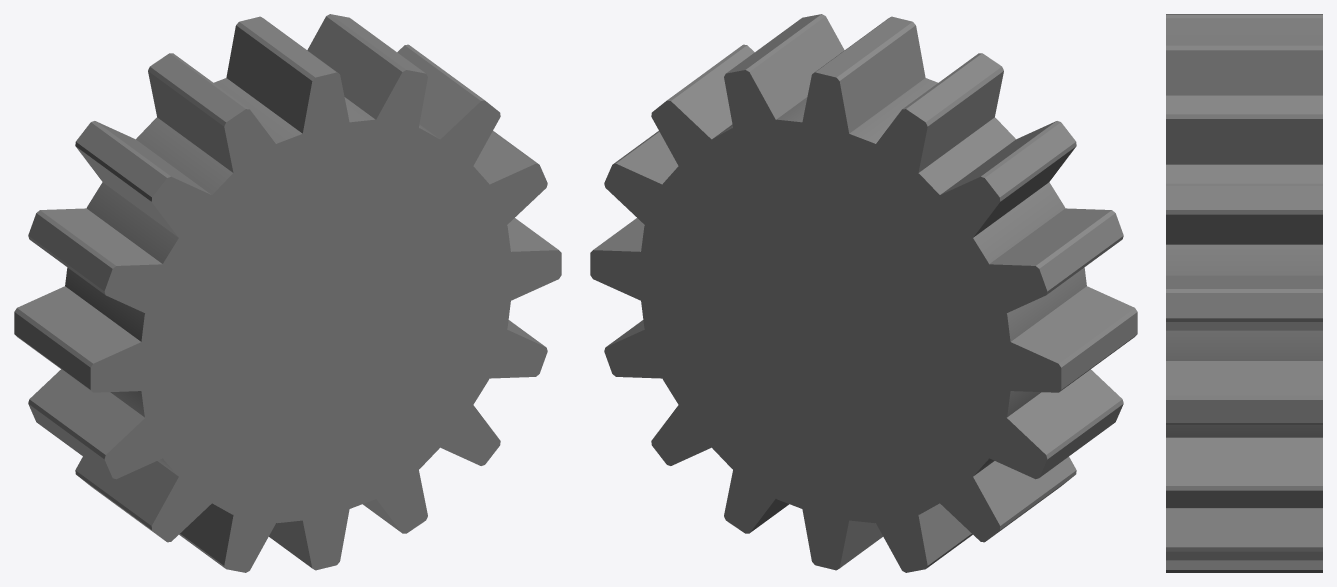
Rendered from gear16_01.fbx.
3 views of the same model, side by side, from view 1: azimuth 30°, elevation 25°; view 2: azimuth 150°, elevation 25°; view 3: azimuth 270°, elevation 25° (orthographic). The views are drawn at different scales.
Parts seen in each view (by area): view 1: polySurface14, polySurface21, polySurface22, polySurface24, polySurface17, polySurface23, polySurface20, polySurface18, polySurface19; view 2: polySurface14, polySurface21, polySurface17, polySurface24, polySurface22, polySurface23, polySurface18, polySurface20, polySurface19; view 3: polySurface14, polySurface20, polySurface24, polySurface21, polySurface23, polySurface17, polySurface22, polySurface19, polySurface18.
Boxes of the visible parts, x1,y1,x2,y2 form: polySurface14: (65,78,510,523); polySurface21: (14,218,561,392); polySurface22: (28,131,547,479); polySurface24: (179,14,427,572); polySurface17: (226,16,349,570); polySurface23: (75,44,500,542); polySurface20: (28,208,547,378); polySurface18: (148,53,427,533); polySurface19: (75,121,500,465); polySurface14: (639,78,1086,523); polySurface21: (590,218,1137,392); polySurface17: (801,16,925,570); polySurface24: (724,14,972,572); polySurface22: (604,131,1123,479); polySurface23: (651,44,1076,542); polySurface18: (724,53,1003,533); polySurface20: (604,208,1123,378); polySurface19: (651,121,1076,465); polySurface14: (1166,164,1322,437); polySurface20: (1166,437,1322,508); polySurface24: (1166,95,1322,164); polySurface21: (1166,361,1322,424); polySurface23: (1166,183,1322,244); polySurface17: (1166,35,1322,94); polySurface22: (1166,275,1322,330); polySurface19: (1166,508,1322,560); polySurface18: (1166,14,1322,572).
Size of the model in its own units: 1.78 by 1.78 by 0.5.
